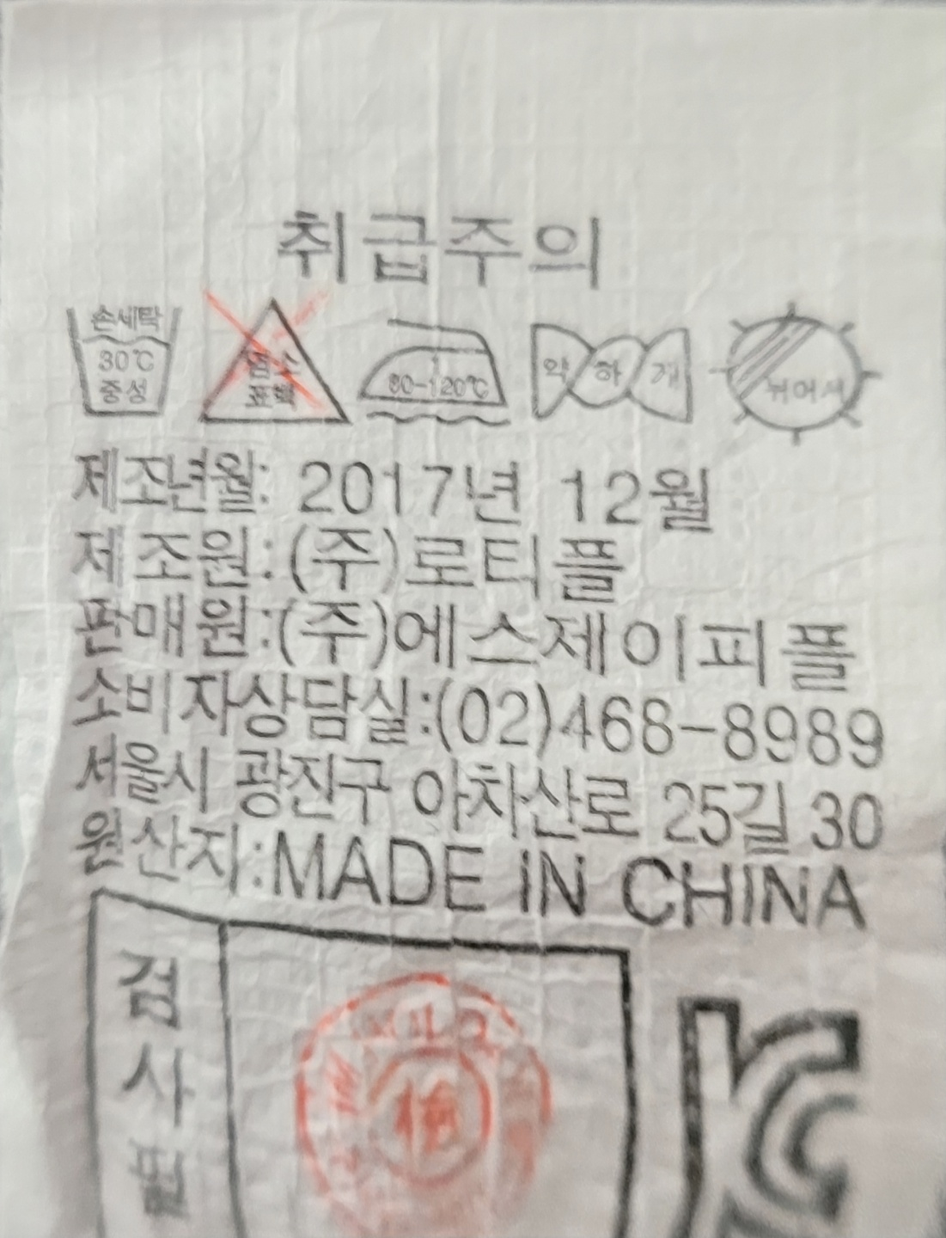KR_flat_dry_in_shade: (716, 298, 888, 447)
KR_gentle_wring: (517, 298, 701, 439)
KR_hand_wash_30_neutral: (49, 287, 191, 437)
KR_iron_low_temp_with_cloth: (360, 296, 516, 439)
KR_no_chlorine_bleach: (183, 285, 353, 432)
